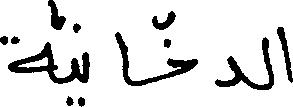X: (0, 0, 53, 86), (168, 6, 196, 82), (217, 51, 240, 91), (116, 27, 130, 89), (279, 22, 292, 87), (262, 32, 274, 94), (71, 18, 79, 106), (84, 47, 90, 106)
